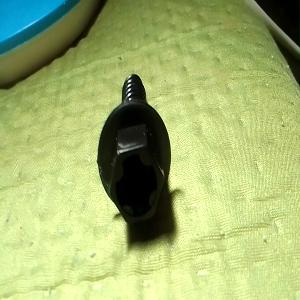parafuso: (97, 74, 171, 224)
